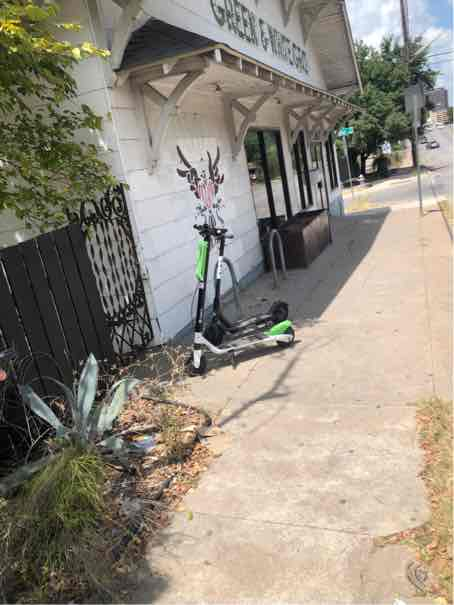scooter: (187, 139, 294, 366)
